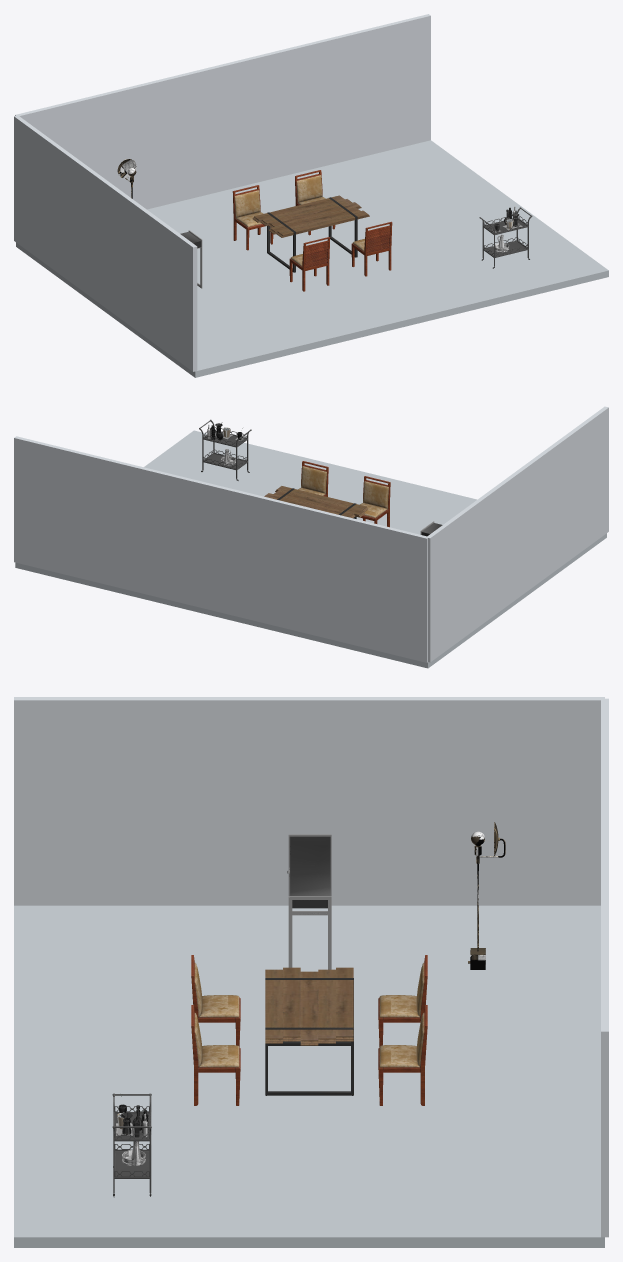
File: stage2.glb
3 renders of one model, top to bottom at view 1: azimuth 30°, elevation 25°; view 2: azimuth 150°, elevation 25°; view 3: azimuth 270°, elevation 25°, orthographic. The views are drawn at different scales.
Visible parts, largest first — view 1: Floor, wall_back, wall_left, raw_model, raw_model.002, solid_001.001, solid_001, solid_002.003, solid_002.002, solid_001.003; view 2: wall_back, wall_left, Floor, raw_model.002, raw_model, solid_002.001, solid_002, solid_001.001; view 3: Floor, wall_left, raw_model, wall_back, raw_model.001, raw_model.002, solid_002.003, solid_002.002, solid_002, solid_002.001, raw_model.003, solid_001.002 (+1 smaller).
Part boxes in pixels (box(x1,y1,x2,y2)): Floor: box(16, 140, 608, 377); wall_back: box(15, 14, 430, 209); wall_left: box(14, 116, 197, 371); raw_model: box(252, 195, 369, 272); raw_model.002: box(479, 206, 532, 268); solid_001.001: box(289, 237, 330, 291); solid_001: box(351, 221, 392, 276); solid_002.003: box(234, 190, 263, 227); solid_002.002: box(296, 175, 325, 204); solid_001.003: box(232, 185, 273, 250); wall_back: box(14, 436, 428, 662); wall_left: box(427, 406, 608, 662); Floor: box(15, 430, 606, 668); raw_model.002: box(199, 419, 251, 480); raw_model: box(264, 486, 368, 518); solid_002.001: box(360, 481, 388, 517); solid_002: box(298, 466, 326, 495); solid_001.001: box(360, 476, 390, 527); Floor: box(14, 905, 604, 1247); wall_left: box(14, 697, 604, 905); raw_model: box(265, 967, 353, 1095); wall_back: box(601, 698, 608, 1237); raw_model.001: box(287, 834, 331, 969); raw_model.002: box(112, 1093, 151, 1197); solid_002.003: box(379, 963, 424, 1017); solid_002.002: box(379, 1013, 424, 1067); solid_002: box(194, 1013, 239, 1067); solid_002.001: box(194, 963, 239, 1017); raw_model.003: box(468, 822, 505, 969); solid_001.002: box(378, 1005, 427, 1105).
Size of the model in its own units: 8.04 by 2.42 by 6.04.
10 materials, 8 textured.
